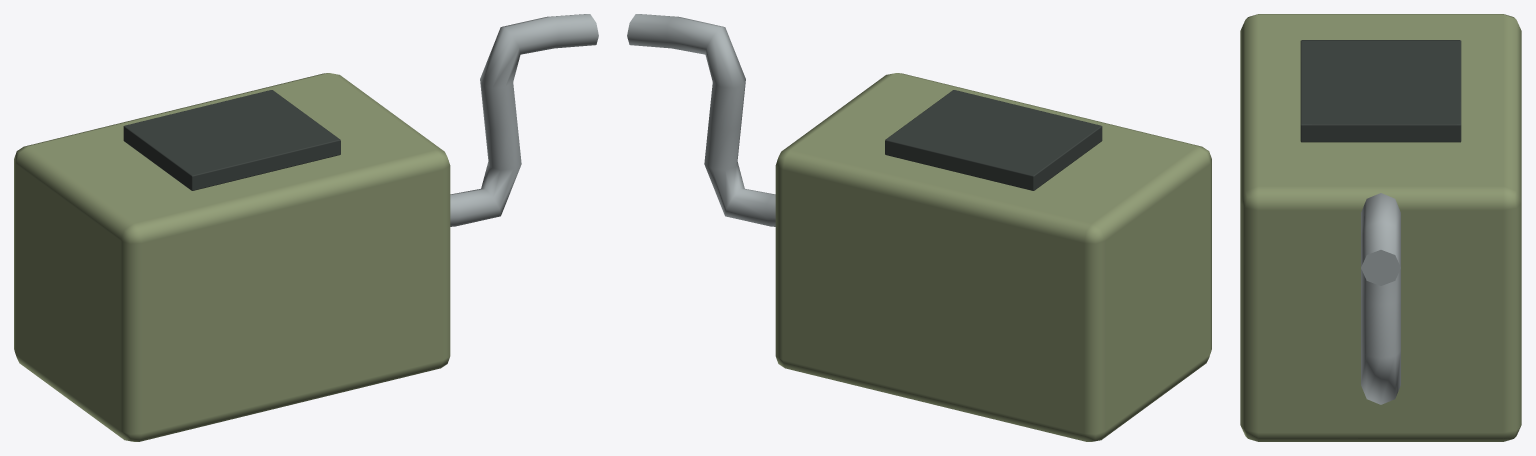
File: off-grid-power-and-controls-hand-crank-generator-390b48bc__2962.glb
3 renders of one model, left to right at view 1: azimuth 30°, elevation 25°; view 2: azimuth 150°, elevation 25°; view 3: azimuth 270°, elevation 25°, orthographic. The views are drawn at different scales.
Visible parts, largest first — view 1: hand-crank-generator, crank/metal; view 2: hand-crank-generator, crank/metal; view 3: hand-crank-generator, crank/metal.
Boxes of the visible parts, x1,y1,x2,y2 form: hand-crank-generator: (14,73,450,441); crank/metal: (450,14,598,226); hand-crank-generator: (775,73,1211,441); crank/metal: (627,14,775,226); hand-crank-generator: (1240,14,1521,441); crank/metal: (1361,193,1400,404).
Size of the model in its own units: 0.35 by 0.1745 by 0.14.
